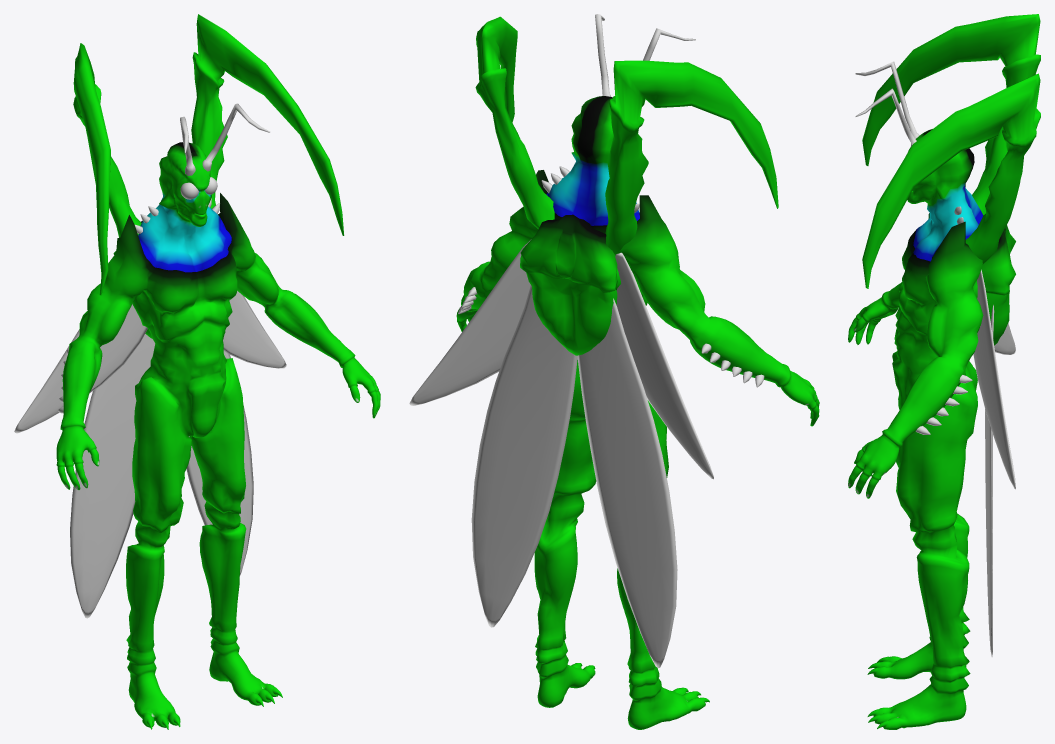
Rendered from Character 1-4.fbx.
3 views of the same model, side by side, from view 1: azimuth 30°, elevation 25°; view 2: azimuth 150°, elevation 25°; view 3: azimuth 270°, elevation 25° (orthographic). The views are drawn at different scales.
Parts seen in each view (by area): view 1: Character_1; view 2: Character_1; view 3: Character_1.
Part boxes in pixels (<box>): Character_1: <box>14,14,380,729</box>; Character_1: <box>409,14,819,729</box>; Character_1: <box>848,14,1040,729</box>.
Bounding box in the file's own units: 111 × 209 × 55.85.
